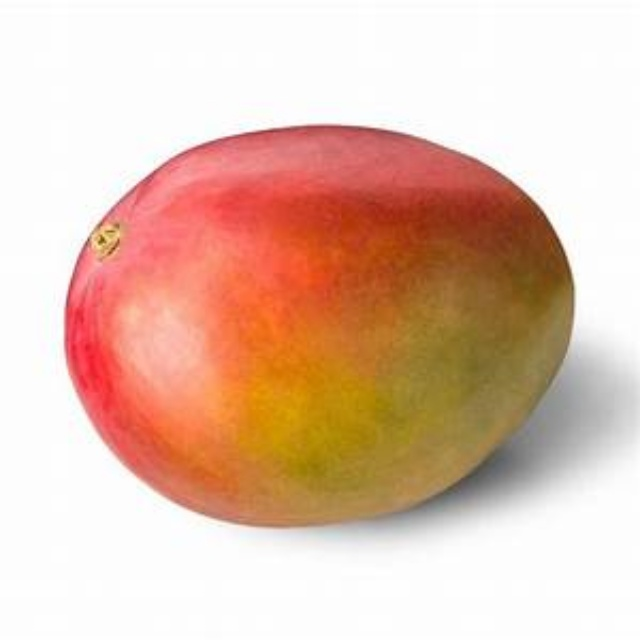mango: (60, 130, 575, 526)
